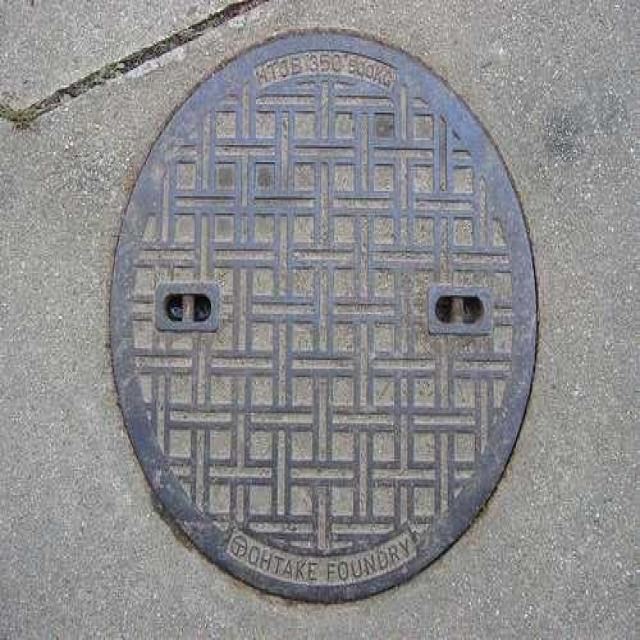manhole: (111, 32, 536, 601)
